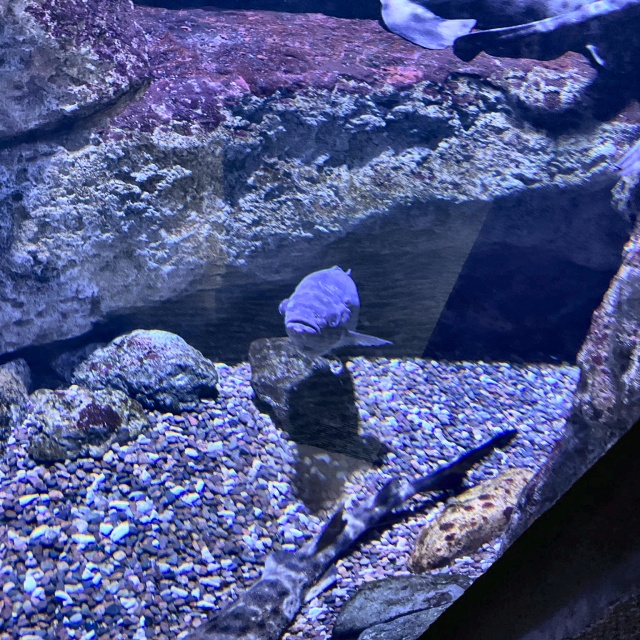fish: (282, 267, 391, 348)
shark: (181, 431, 514, 639), (372, 0, 639, 66)
